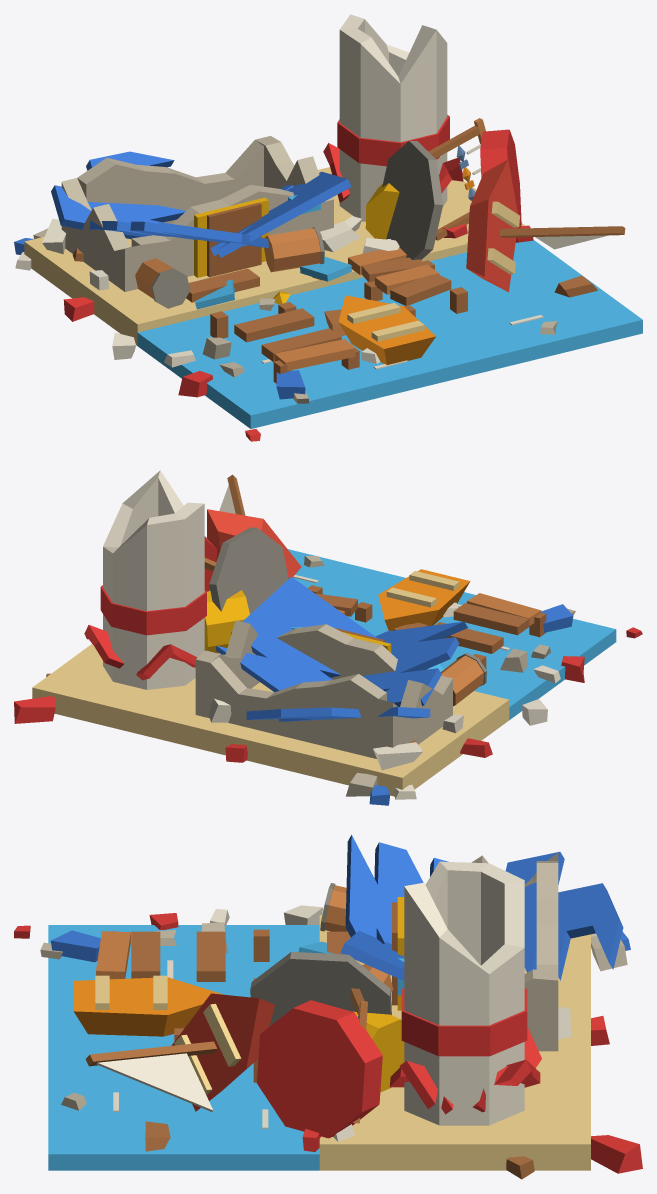
Rendered from fishery_t3_v1_dmg2.glb.
The picture shows the model from 3 angles, top to bottom: view 1: azimuth 30°, elevation 25°; view 2: azimuth 150°, elevation 25°; view 3: azimuth 270°, elevation 25°; orthographic projection. The views are drawn at different scales.
Visible parts, largest first — view 1: fishery_t3_v1_dmg2; view 2: fishery_t3_v1_dmg2; view 3: fishery_t3_v1_dmg2.
Boxes of the visible parts, x1,y1,x2,y2 form: fishery_t3_v1_dmg2: (14, 14, 642, 441); fishery_t3_v1_dmg2: (14, 470, 642, 805); fishery_t3_v1_dmg2: (14, 834, 642, 1179).
Size of the model in its own units: 0.8423 by 0.3823 by 0.8691.
Materials: 1 (1 with a texture image).
